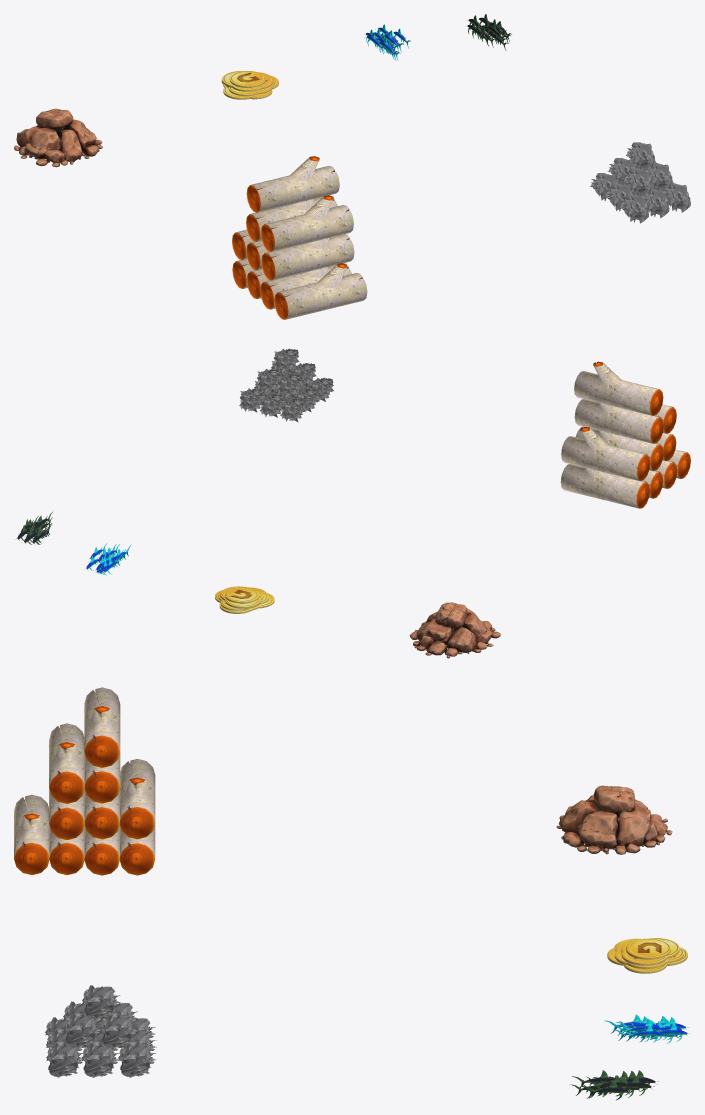
File: Building2Whole_INIT.glb
The picture shows the model from 3 angles, top to bottom: view 1: azimuth 30°, elevation 25°; view 2: azimuth 150°, elevation 25°; view 3: azimuth 270°, elevation 25°; orthographic projection. The views are drawn at different scales.
Visible parts, largest first — view 1: Building2Whole_INIT; view 2: Building2Whole_INIT; view 3: Building2Whole_INIT.
Part boxes in pixels (x1,y1,x2,y2): Building2Whole_INIT: [14, 14, 690, 319]; Building2Whole_INIT: [16, 348, 690, 658]; Building2Whole_INIT: [14, 687, 690, 1100].
Bounding box in the file's own units: 5.83 × 1.43 × 5.64.
Materials: 8 (7 with a texture image).
